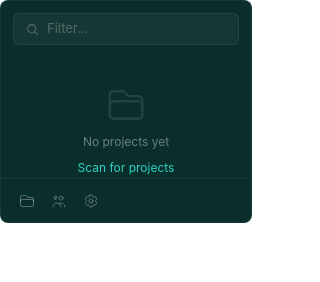
Test: Sidebar component branches › closes the hover-opened accounts board after the leave grace
Hover over the button with test id "accounts-toggle" at (59, 200), box left=45, top=186, right=73, bottom=214
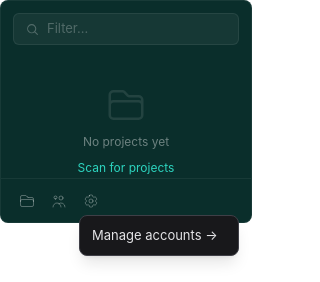
expect the menu with test id "context-menu" is shown: met, box left=79, top=214, right=239, bottom=256
Move the pointer off the button with test id "accounts-toggle", box left=45, top=186, right=73, bottom=214
Wait 250 ms
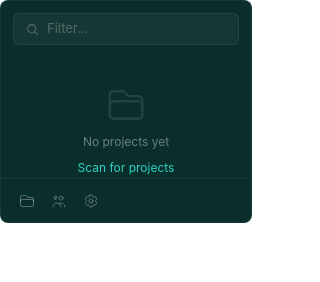
expect the menu with test id "context-menu" is gone: met
